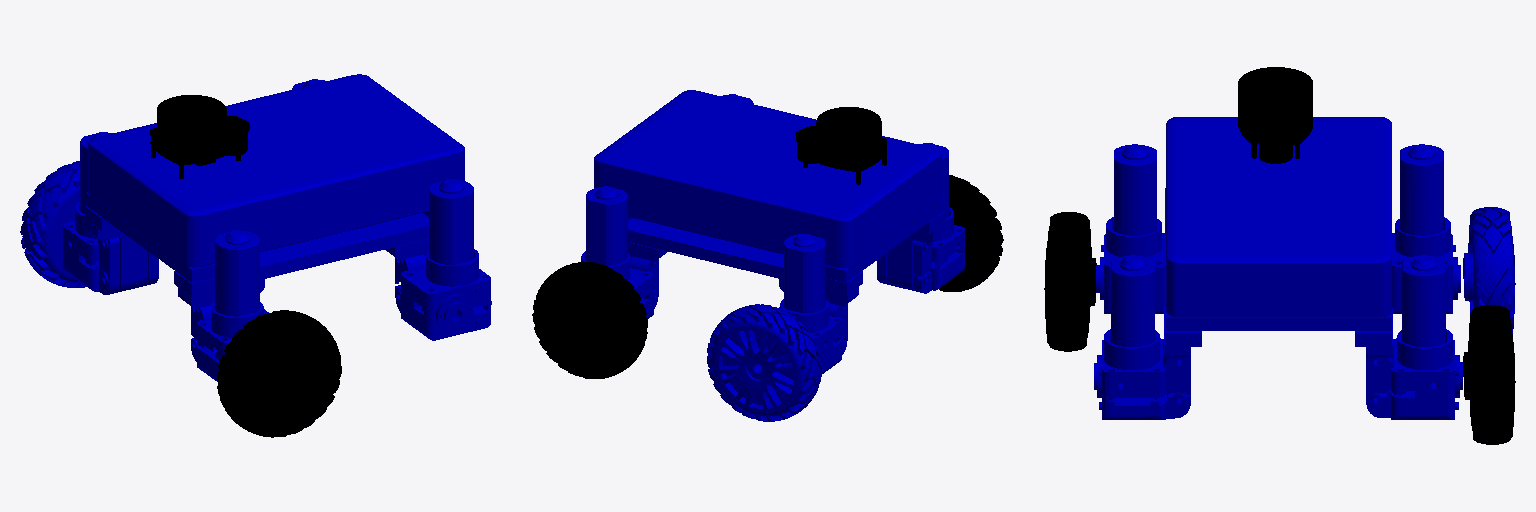
The robot description file, URDF, robot "esp32_char":
<?xml version="1.0"?>
<robot name="esp32_char">

  <material name="blue"> <color rgba="0 0 0.8 1"/> </material>
  <material name="black"> <color rgba="0 0 0 1"/> </material>

  <link name="base_link">
    <visual>
      <geometry> 
      
       <mesh filename="package://esp32_control/meshes/robot_body.obj"   scale="0.001 0.001 0.001"/>
      
      </geometry>
      <material name="blue"/>
    </visual>
  </link>










<!---ROUE___ARRIERE_______________________________________________-->


  <link name="rear_left_wheel">
    <visual>
      <geometry> 
      <mesh filename="package://esp32_control/meshes/rear_left_wheel.obj"  scale="0.001 0.001 0.001"/>
      </geometry>
      <material name="black"/>
      <origin xyz="-0.115 -0.220 -0.040" rpy="0 0 0"/>
    </visual>
  </link>
  <joint name="joint_rear_left_wheel" type="continuous">
    <parent link="base_link"/>
    <child link="rear_left_wheel"/>
    <origin xyz="0.115 0.220 0.040" rpy="0 0 0"/>
    <axis xyz="0 1 0"/>
  </joint>





  <link name="rear_right_wheel">
    <visual>
      <geometry> 
      <mesh filename="package://esp32_control/meshes/rear_right_wheel.obj" scale="0.001 0.001 0.001"/>
      </geometry>
       <material name="black"/>
      <origin xyz="-0.115 0.120 -0.040" rpy="0 0 0"/>
    </visual>
  </link>
  <joint name="joint_rear_right_wheel" type="continuous">
    <parent link="base_link"/>
    <child link="rear_right_wheel"/>
    <origin xyz="0.115 -0.120 0.040" rpy="0 0 0"/>
    <axis xyz="0 1 0"/>
  </joint>

<!--______________________________________________________________-->





















  <link name="front_left_wheel">
    <visual>
      <material name="blue"> <color rgba="0 0 0.8 1"/> </material>
      <geometry>
        <mesh filename="package://esp32_control/meshes/front_left_wheel.obj"  scale="0.001 0.001 0.001"/>
      </geometry>
      <material name="blue"/>
      <origin xyz="0.100 -0.220 -0.040" rpy="0 0 0"/>
    </visual>
  </link>
  <joint name="joint_front_left_wheel" type="continuous">
    <parent link="base_link"/>
    <child link="front_left_wheel"/>
    <origin xyz="-0.100 0.220 0.040" rpy="0 0 0"/>
    <axis xyz="0 1 0"/>
  </joint>




  <link name="front_right_wheel">
    <visual>
      <geometry> 
      <mesh filename="package://esp32_control/meshes/front_right_wheel.obj" scale="0.001 0.001 0.001"/>
      </geometry>
      <material name="black"/>
      <material name="black"/>
      <origin xyz="0.100 0.120 -0.045" rpy="0 0 0"/>
    </visual>
  </link>
  <joint name="joint_front_right_wheel" type="continuous">
    <parent link="base_link"/>
    <child link="front_right_wheel"/>
    <origin xyz="-0.100 -0.120 0.040" rpy="0 0 0"/>
    <axis xyz="0 1 0"/>
  </joint>




<!--________________________________________________________-->





























<link name="laser">
    <visual>
      <geometry> 
        <mesh filename="package://esp32_control/meshes/lidar_body.obj"  scale="0.001 0.001 0.001"/>
      
      </geometry>
      <material name="black"/>
         <origin xyz="0 0 0" rpy="0 0 0"/>
    </visual>
  </link>


  <joint name="joint_laser" type="fixed">
    <parent link="base_link"/>
    <child link="laser"/>
       <origin xyz="-0.000 -0.000 -0.000" rpy="0 0 0"/>
  </joint>

</robot>

--- Facts derived from the render (not from the file) ---
3 views of the same robot in one strip: view 1: azimuth 30°, elevation 25°; view 2: azimuth 150°, elevation 25°; view 3: azimuth 270°, elevation 25° (orthographic).
Model esp32_char with 6 links and 5 joints (4 continuous, 1 fixed), rooted at base_link, posed every joint at zero.
Visible links, largest first — view 1: base_link, front_right_wheel, laser, front_left_wheel; view 2: base_link, front_left_wheel, rear_left_wheel, laser, front_right_wheel; view 3: base_link, rear_left_wheel, front_right_wheel, laser, front_left_wheel.
Link boxes in pixels (<box>): base_link: <box>63,74,491,380</box>; front_right_wheel: <box>217,310,341,437</box>; laser: <box>150,95,249,178</box>; front_left_wheel: <box>20,161,86,287</box>; base_link: <box>581,90,964,373</box>; front_left_wheel: <box>707,304,821,421</box>; rear_left_wheel: <box>532,262,647,378</box>; laser: <box>796,107,886,184</box>; front_right_wheel: <box>939,175,1003,291</box>; base_link: <box>1094,117,1462,419</box>; rear_left_wheel: <box>1463,305,1515,444</box>; front_right_wheel: <box>1044,212,1096,351</box>; laser: <box>1238,67,1312,163</box>; front_left_wheel: <box>1463,207,1515,333</box>.
Size in the robot's own frame: 0.3459 by 0.4377 by 0.2747 metres.
5 mesh visuals loaded from 6 distinct referenced files (5 OBJ); not drawn: 1 (reference not matched to a file when rendering).
